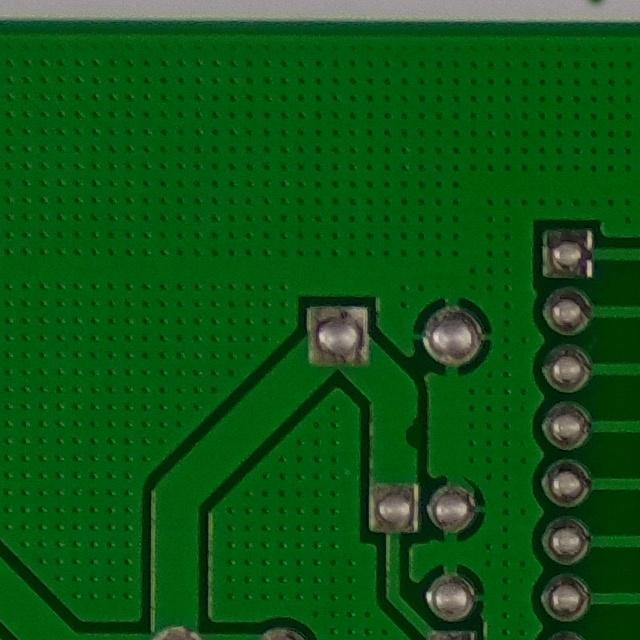mouse_bite: (391, 403, 428, 461)
